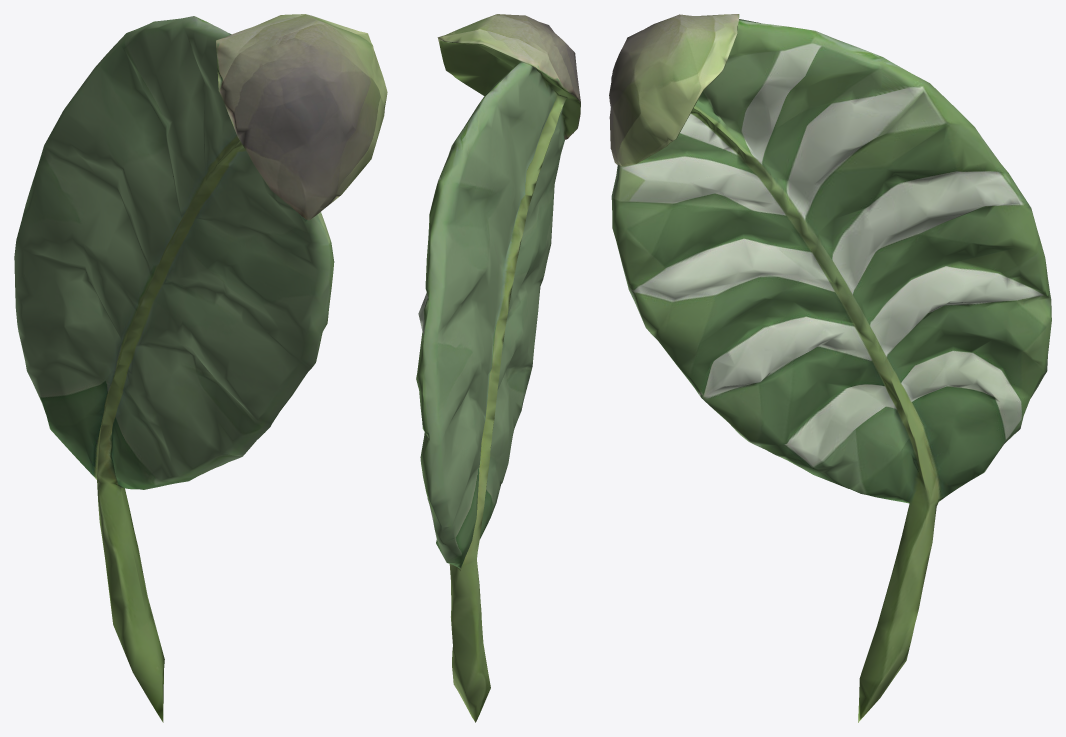
Rendered from ca_leaf_young.glb.
The picture shows the model from 3 angles, left to right: view 1: azimuth 30°, elevation 25°; view 2: azimuth 150°, elevation 25°; view 3: azimuth 270°, elevation 25°; orthographic projection. The views are drawn at different scales.
Visible parts, largest first — view 1: tripo_node_1493a516-6c6b-4966-b1ac-d2d1ab1e91b0; view 2: tripo_node_1493a516-6c6b-4966-b1ac-d2d1ab1e91b0; view 3: tripo_node_1493a516-6c6b-4966-b1ac-d2d1ab1e91b0.
Boxes of the visible parts, bbox=[...] form: tripo_node_1493a516-6c6b-4966-b1ac-d2d1ab1e91b0: bbox=[14, 14, 387, 722]; tripo_node_1493a516-6c6b-4966-b1ac-d2d1ab1e91b0: bbox=[416, 14, 580, 722]; tripo_node_1493a516-6c6b-4966-b1ac-d2d1ab1e91b0: bbox=[609, 14, 1051, 722].
Size of the model in its own units: 0.258 by 1 by 0.5525.
Materials: 1 (1 with a texture image).
